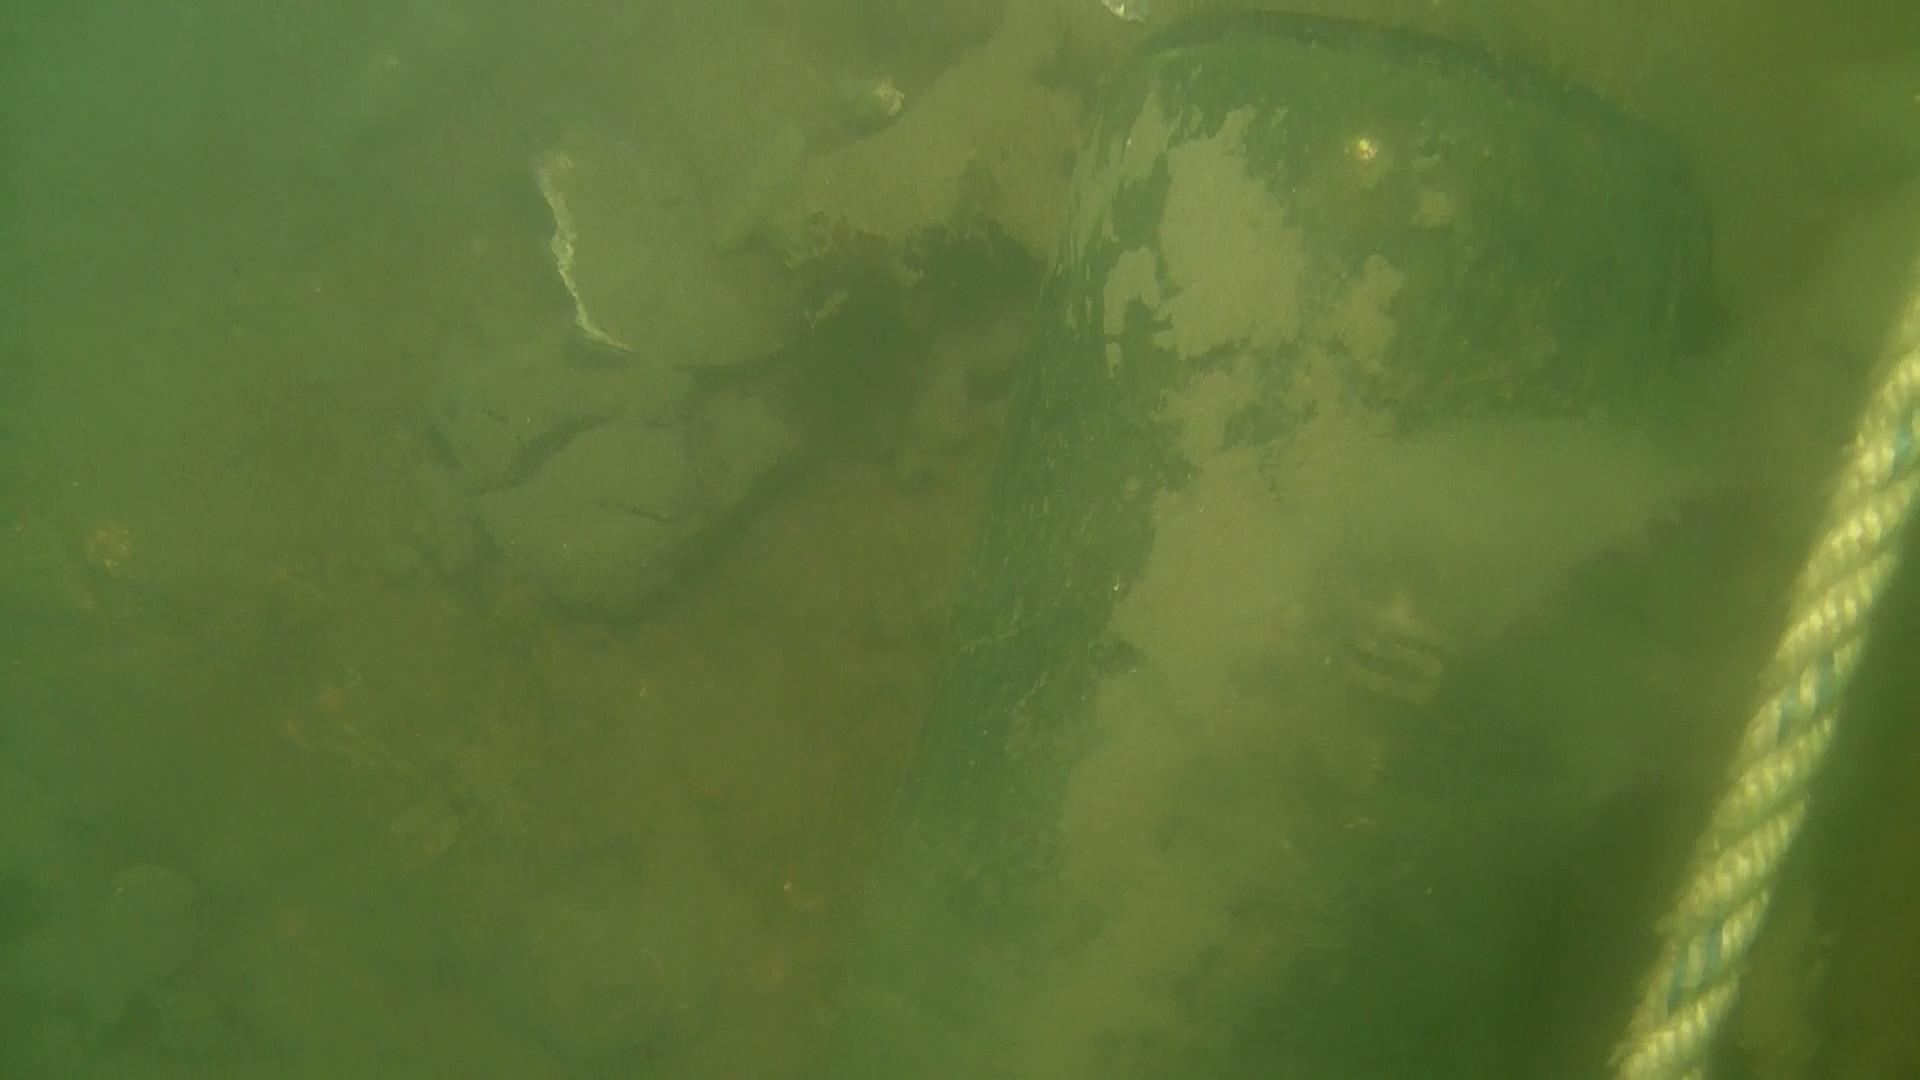rope: (1605, 266, 1920, 1080)
